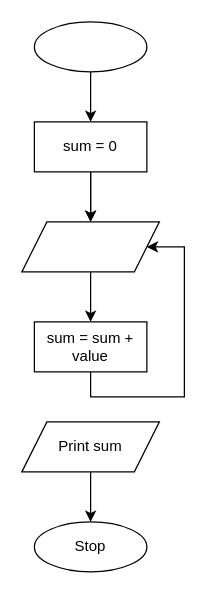
Some shapes in this 216 by 594 pixel diagram are drawn without their labels. Each missing label, with the centre of its shape:
"Input value" belongs at pixel 90 246.
"Start" belongs at pixel 90 46.
